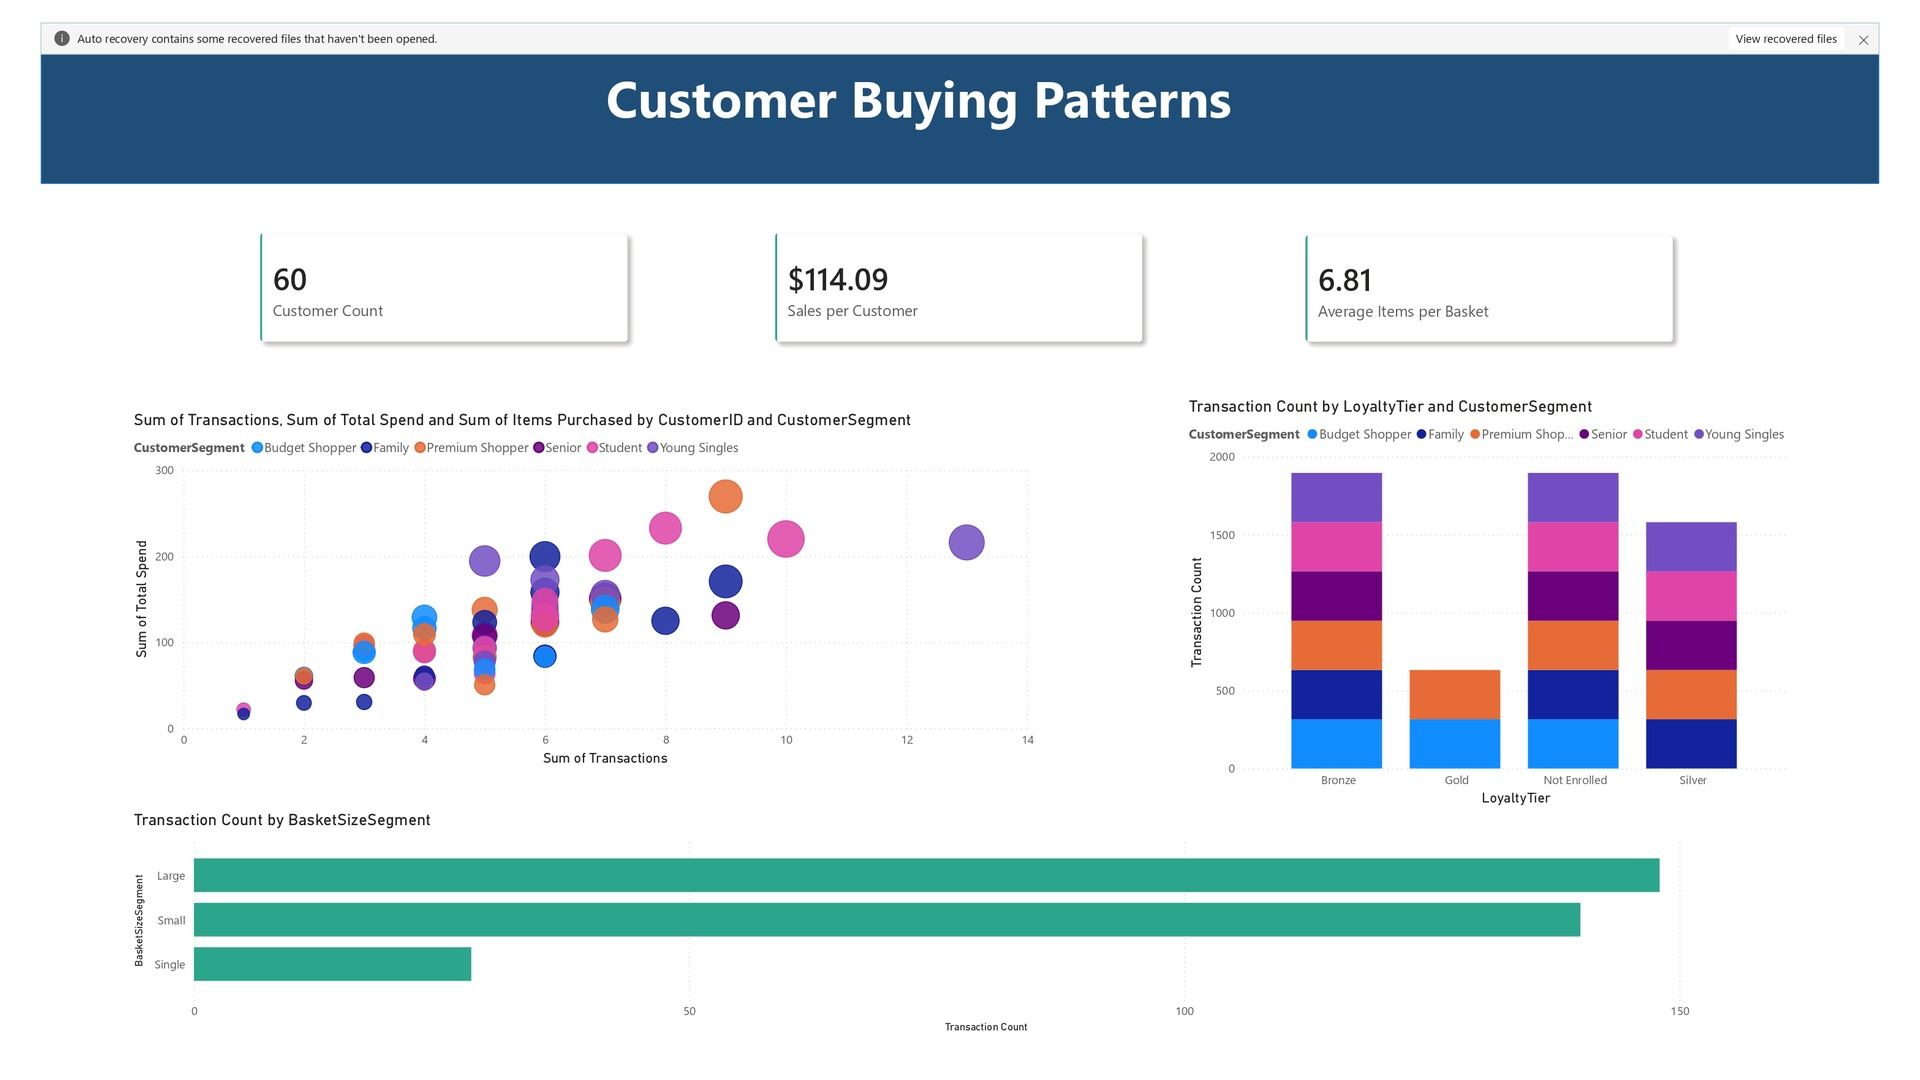

The dashboard page shown, as its layout file describes it:
{"tool":"powerbi","page":{"name":"Customer Buying Patterns","canvas":[1920,1080],"ordinal":2},"visuals":[{"type":"cardVisual","fields":{"Data":["FactTransactions.Customer Count"]},"box":[200,190,442,172],"z":0},{"type":"cardVisual","fields":{"Data":["FactTransactions.Sales per Customer"]},"box":[738,190,442,172],"z":1000},{"type":"cardVisual","fields":{"Data":["FactTransactions.Average Items per Basket"]},"box":[1292,192,442,170],"z":2000},{"type":"scatterChart","fields":{"X":["Sum(Customer Summary.Transactions)"],"Y":["Sum(Customer Summary.Total Spend)"],"Size":["Sum(Customer Summary.Items Purchased)"],"Series":["Customer Summary.CustomerSegment"],"Category":["Customer Summary.CustomerID"]},"box":[92,404,950,376],"z":3000},{"type":"actionButton","box":[0,0,100,40],"z":4000},{"type":"columnChart","fields":{"Category":["Customer Summary.LoyaltyTier"],"Series":["Customer Summary.CustomerSegment"],"Y":["FactTransactions.Transaction Count"]},"box":[1194,390,636,432],"z":5000},{"type":"barChart","fields":{"Y":["FactTransactions.Transaction Count"],"Category":["FactTransactions.BasketSizeSegment"]},"box":[92,822,1738,238],"z":6000},{"type":"shape","box":[0,0,1920,168],"z":7000},{"type":"textbox","box":[176,36,1482,96],"z":7001}]}

Visuals, with their boxes on the page's 1920x1080 design canvas (x1, y1, x2, y2). These are canvas units, not pixel positions in the 1920x1080 screenshot, which may show the page scaled, cropped or inside an application window:
cardVisual - FactTransactions.Customer Count: 200, 190, 642, 362
cardVisual - FactTransactions.Sales per Customer: 738, 190, 1180, 362
cardVisual - FactTransactions.Average Items per Basket: 1292, 192, 1734, 362
scatterChart - Sum(Customer Summary.Transactions) x Sum(Customer Summary.Total Spend): 92, 404, 1042, 780
actionButton: 0, 0, 100, 40
columnChart - Customer Summary.LoyaltyTier x Customer Summary.CustomerSegment: 1194, 390, 1830, 822
barChart - FactTransactions.Transaction Count x FactTransactions.BasketSizeSegment: 92, 822, 1830, 1060
shape: 0, 0, 1920, 168
textbox: 176, 36, 1658, 132
